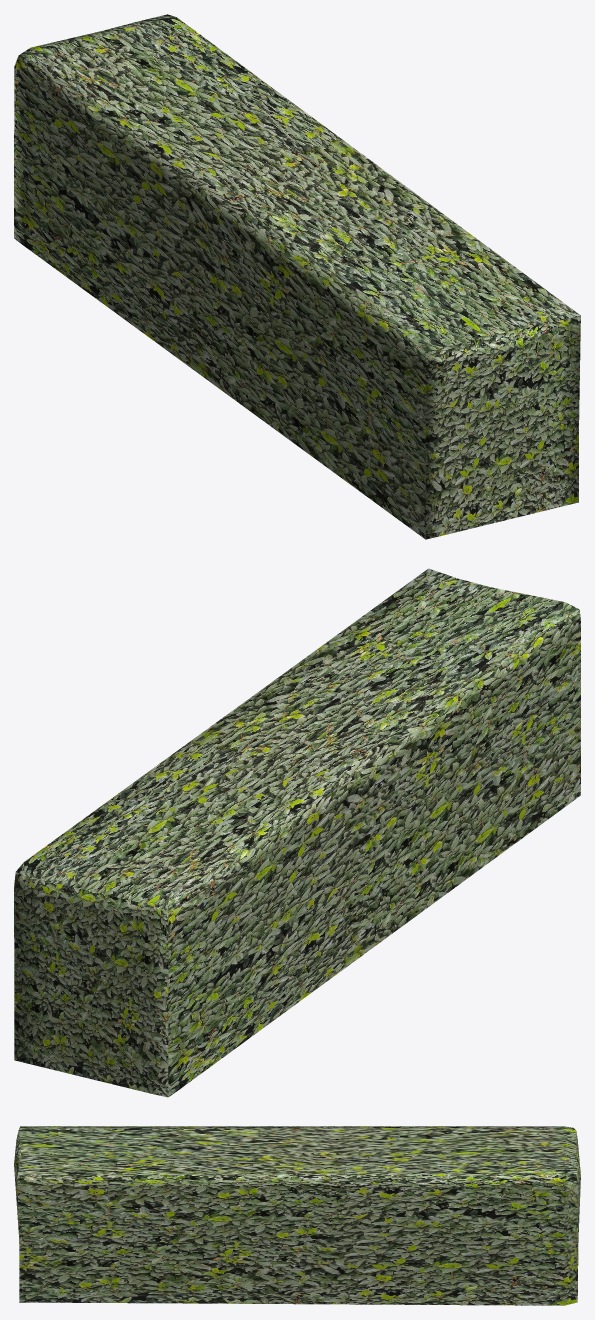
File: HedgeLowPoly_Max.fbx
3 views of the same model, one above another, from view 1: azimuth 30°, elevation 25°; view 2: azimuth 150°, elevation 25°; view 3: azimuth 270°, elevation 25° (orthographic). The views are drawn at different scales.
Parts seen in each view (by area): view 1: hedgePiece; view 2: hedgePiece; view 3: hedgePiece.
Boxes of the visible parts, x1=… form: hedgePiece: x1=14, y1=14, x2=580, y2=539; hedgePiece: x1=14, y1=568, x2=580, y2=1097; hedgePiece: x1=14, y1=1126, x2=580, y2=1305.
Bounding box in the file's own units: 227 × 251 × 1000.
Materials: 1 (1 with a texture image).
